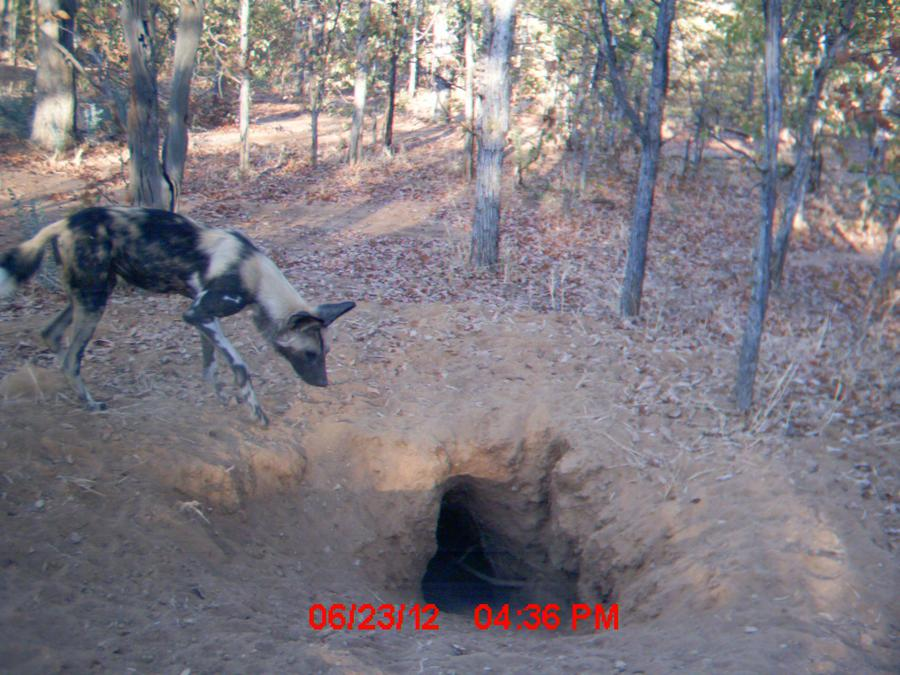wilddog: (37, 196, 367, 395)
